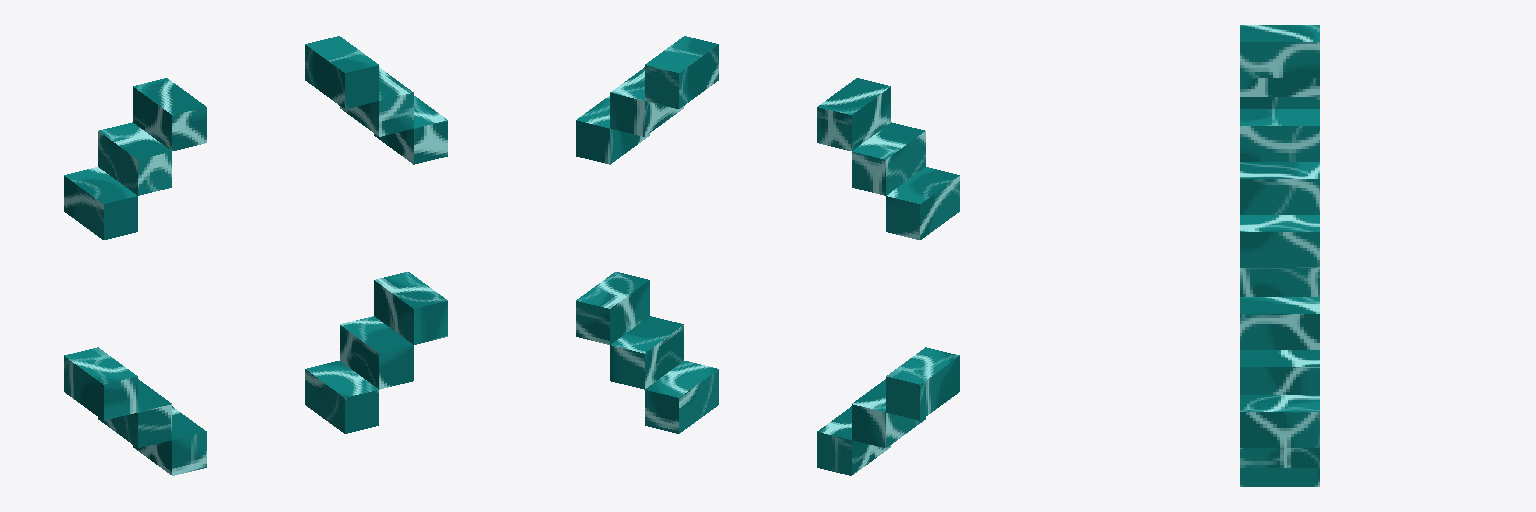
3 renders of one model, left to right at view 1: azimuth 30°, elevation 25°; view 2: azimuth 150°, elevation 25°; view 3: azimuth 270°, elevation 25°, orthographic.
Visible parts, largest first — view 1: ObjObject.002; view 2: ObjObject.002; view 3: ObjObject.002.
Boxes of the visible parts, <box> form: ObjObject.002: <box>64,36,447,475</box>; ObjObject.002: <box>576,36,959,475</box>; ObjObject.002: <box>1240,25,1319,486</box>.
Size of the model in its own units: 1 by 1 by 0.2.
Materials: 1 (1 with a texture image).